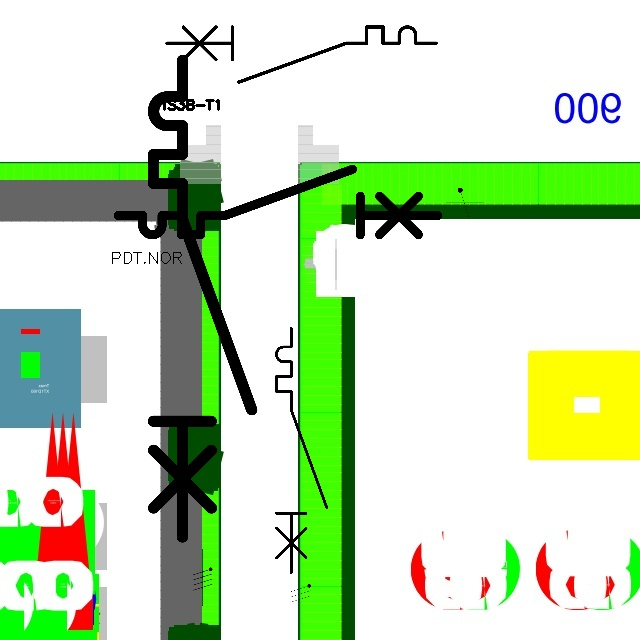interruptor_termomagnetico: (141, 48, 263, 549), (110, 161, 446, 243), (160, 20, 443, 89), (270, 322, 332, 578)
